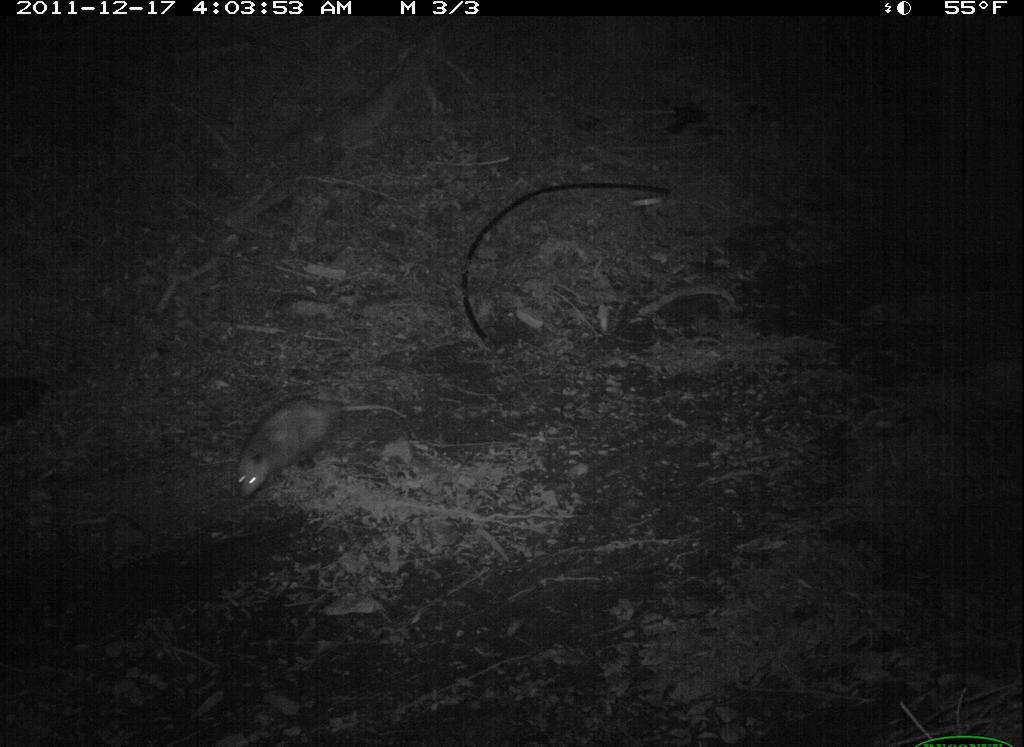opossum: (230, 390, 401, 507)
